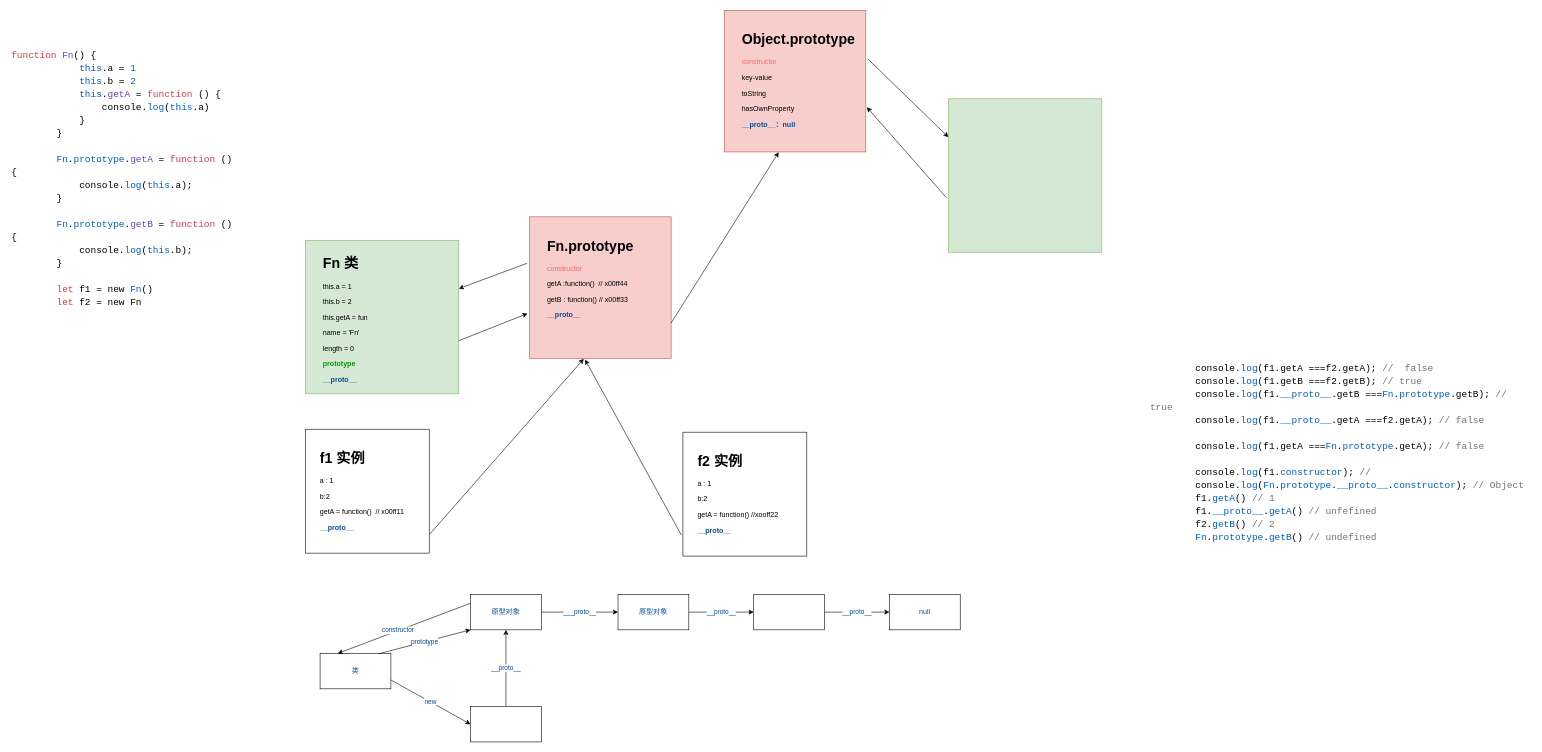
Image size: 1542x752. Some labels were removed from this diagram. Each missing label, with the centre of its shape:
Object 类 key:value length:1 name:'Object' prototype __proto__: pixel 1025 175
Object:原型对象: pixel 789 612
实例: pixel 505 724
